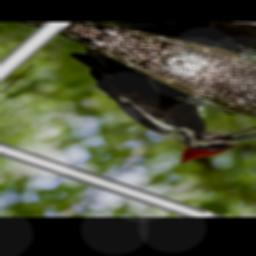Woodpecker: (7, 45, 256, 177)
